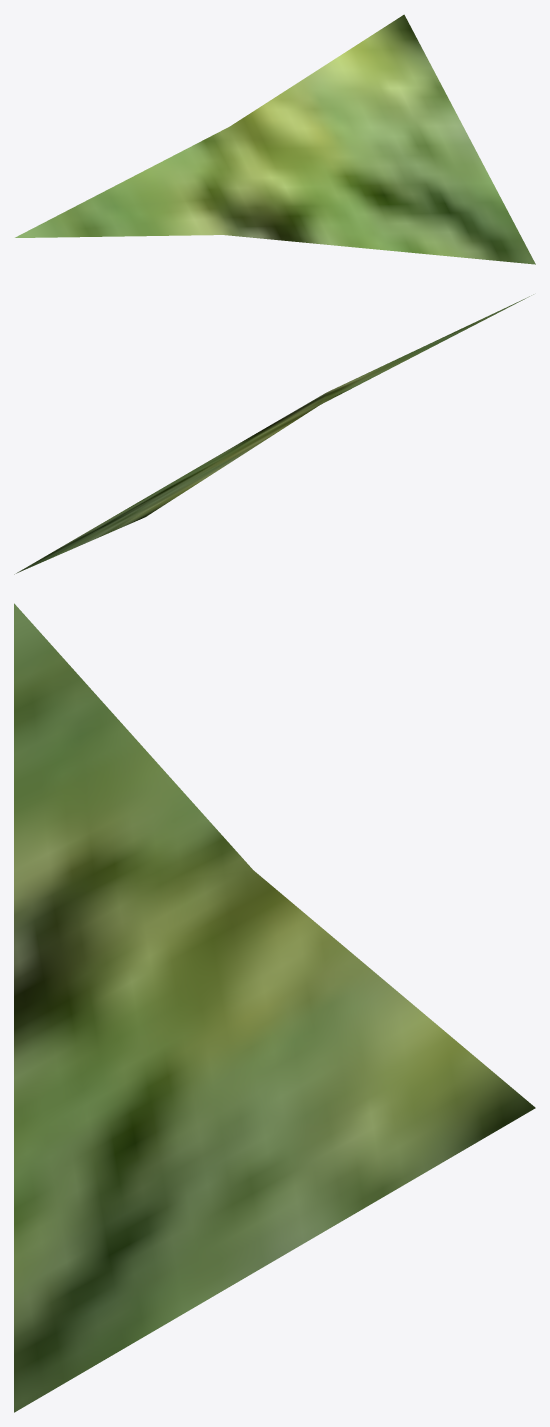
The picture shows the model from 3 angles, top to bottom: view 1: azimuth 30°, elevation 25°; view 2: azimuth 210°, elevation 25°; view 3: azimuth 270°, elevation 25°; orthographic projection. The views are drawn at different scales.
Size of the model in its own units: 0.5677 by 0.1598 by 0.248.
1 material, 1 textured.
